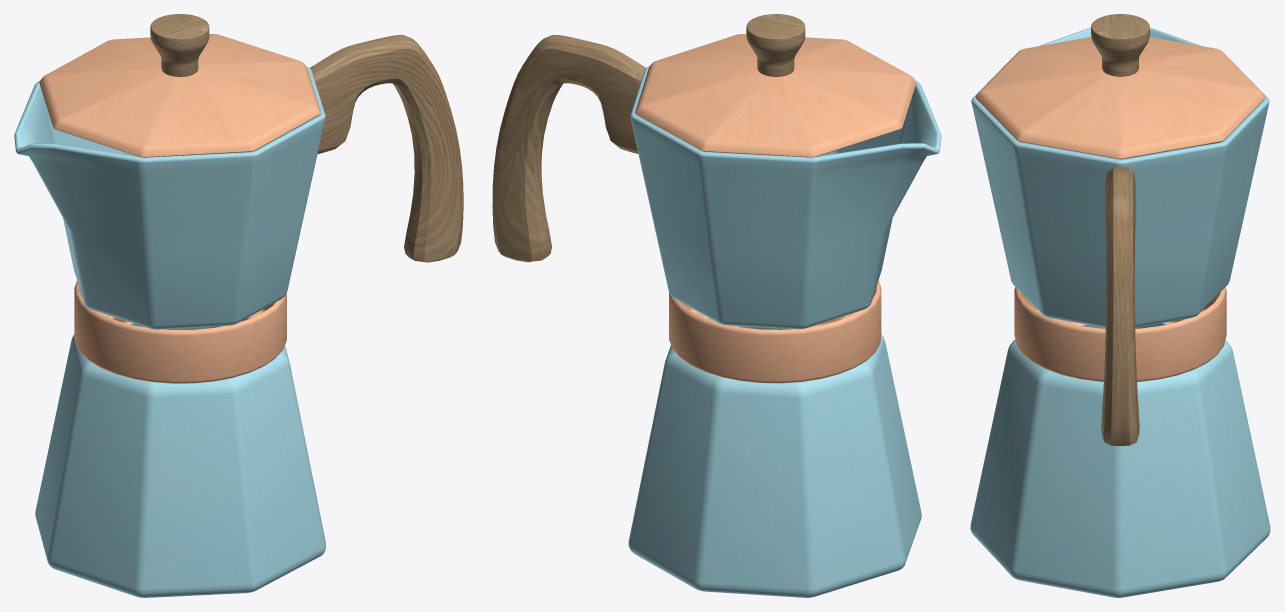
File: moka-exterior.glb
The picture shows the model from 3 angles, left to right: view 1: azimuth 30°, elevation 25°; view 2: azimuth 150°, elevation 25°; view 3: azimuth 270°, elevation 25°; orthographic projection.
Visible parts, largest first — view 1: lower-shell, upper-shell, lid-plate, wood-handle, upper-collar, wood-knob; view 2: lower-shell, upper-shell, lid-plate, wood-handle, upper-collar, wood-knob; view 3: lower-shell, upper-shell, lid-plate, upper-collar, wood-handle, wood-knob.
Boxes of the visible parts, x1,y1,x2,y2 form: lower-shell: (35,314,325,597); upper-shell: (14,67,325,329); lid-plate: (39,34,320,157); wood-handle: (310,35,463,262); upper-collar: (74,281,286,383); wood-knob: (150,14,209,76); lower-shell: (628,314,921,597); upper-shell: (630,67,941,329); lid-plate: (635,34,916,157); wood-handle: (492,35,645,262); upper-collar: (669,280,881,383); wood-knob: (746,14,805,76); lower-shell: (970,323,1270,597); upper-shell: (971,27,1269,327); lid-plate: (975,37,1265,159); upper-collar: (1014,287,1226,381); wood-handle: (1101,167,1139,445); wood-knob: (1091,14,1149,76).
Size of the model in its own units: 2.93 by 3.25 by 1.73.
3 materials, 3 textured.
